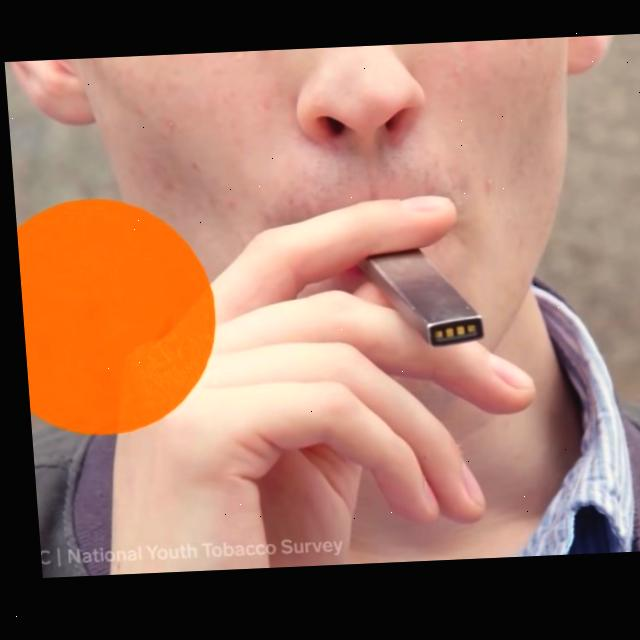vape: (351, 249, 481, 355)
